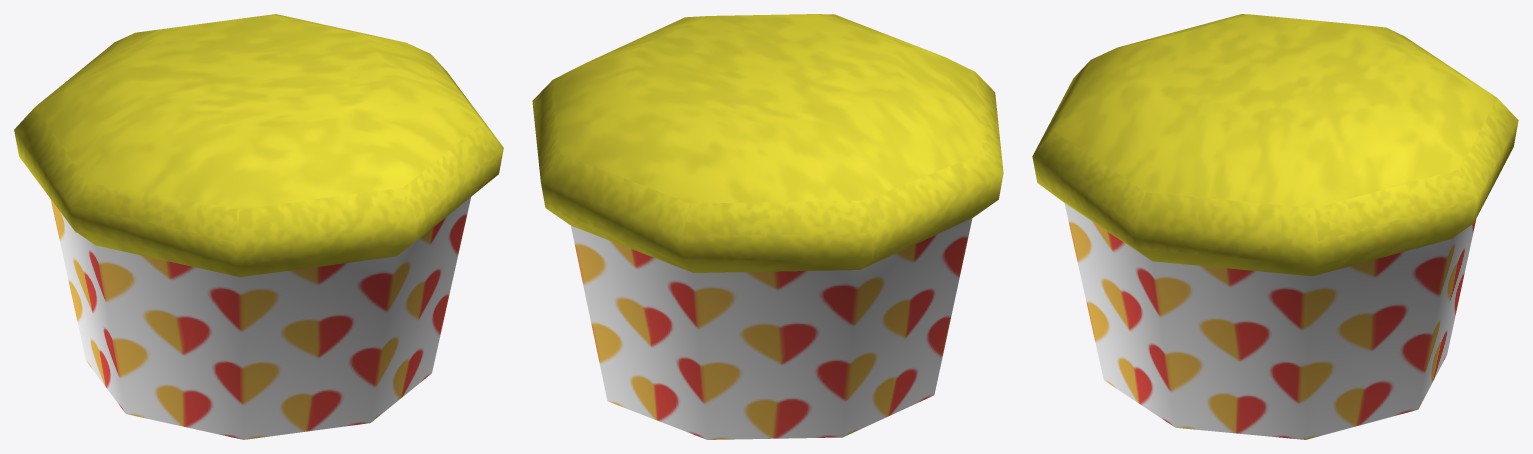
Rendered from Muffin_Plain_05.FBX.
3 renders of one model, left to right at view 1: azimuth 30°, elevation 25°; view 2: azimuth 150°, elevation 25°; view 3: azimuth 270°, elevation 25°, orthographic.
Visible parts, largest first — view 1: Muffin_B; view 2: Muffin_B; view 3: Muffin_B.
Boxes of the visible parts, x1,y1,x2,y2 form: Muffin_B: [14, 14, 503, 439]; Muffin_B: [532, 14, 1003, 439]; Muffin_B: [1032, 14, 1518, 439].
Bounding box in the file's own units: 36.61 × 24.52 × 36.61.
